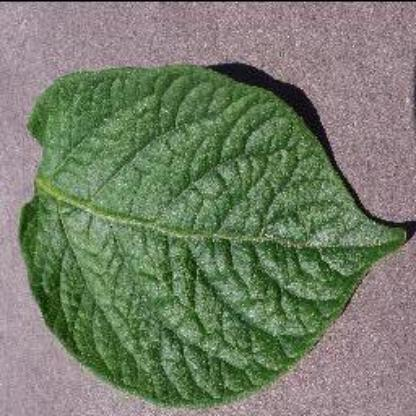Healthy-plant: (12, 59, 416, 407)
